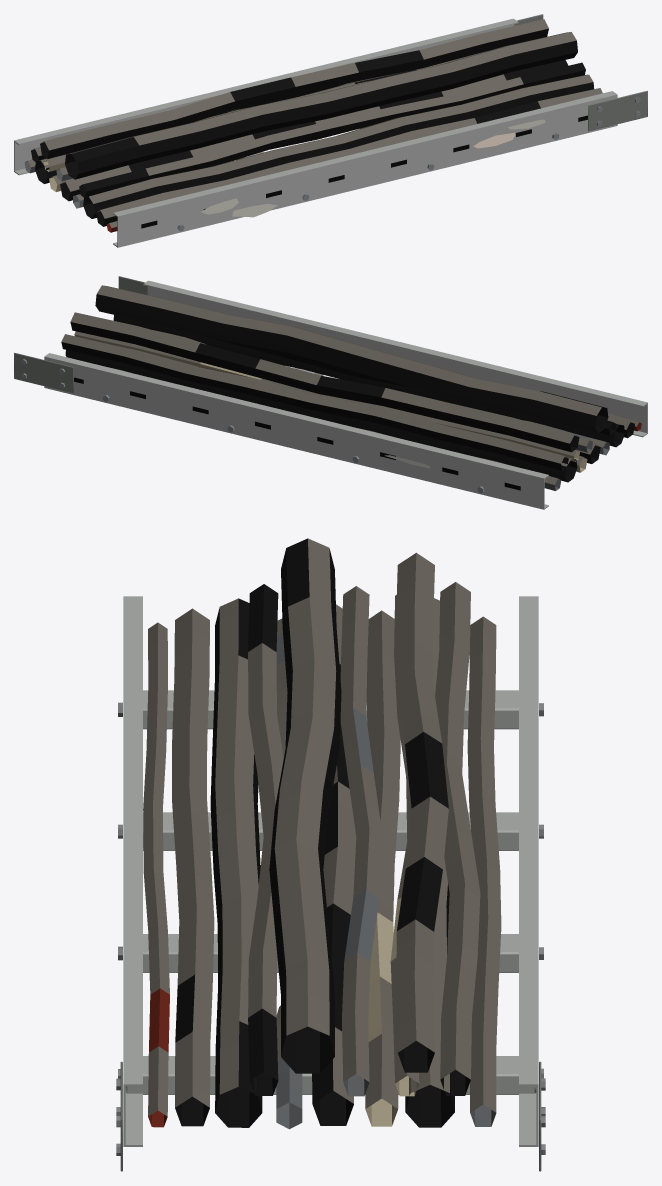
Rendered from cable_tray@2.glb.
The picture shows the model from 3 angles, top to bottom: view 1: azimuth 30°, elevation 25°; view 2: azimuth 150°, elevation 25°; view 3: azimuth 270°, elevation 25°; orthographic projection. The views are drawn at different scales.
Visible parts, largest first — view 1: teil.008, teil.006, teil, teil.003, teil.004, teil.001; view 2: teil.008, teil, teil.006, teil.003, teil.010, teil.001, teil.009; view 3: teil.006, teil.008, teil, teil.009, teil.010, teil.007, teil.002.
Part boxes in pixels (box(x1,y1,x2,y2)): teil.008: box(31, 28, 594, 226); teil.006: box(25, 19, 602, 227); teil: box(14, 18, 617, 247); teil.003: box(514, 14, 647, 131); teil.004: box(201, 119, 545, 217); teil.001: box(141, 115, 587, 228); teil.008: box(61, 294, 634, 482); teil: box(44, 280, 647, 509); teil.006: box(61, 285, 640, 484); teil.003: box(14, 276, 147, 393); teil.010: box(74, 334, 587, 472); teil.001: box(74, 377, 520, 490); teil.009: box(543, 425, 609, 490); teil.006: box(143, 538, 501, 1116); teil.008: box(175, 538, 470, 1127); teil: box(123, 596, 538, 1146); teil.009: box(276, 633, 496, 1129); teil.010: box(365, 897, 418, 1126); teil.007: box(148, 988, 169, 1127); teil.002: box(116, 702, 545, 1155).
Size of the model in its own units: 1.06 by 0.2025 by 0.3722.
